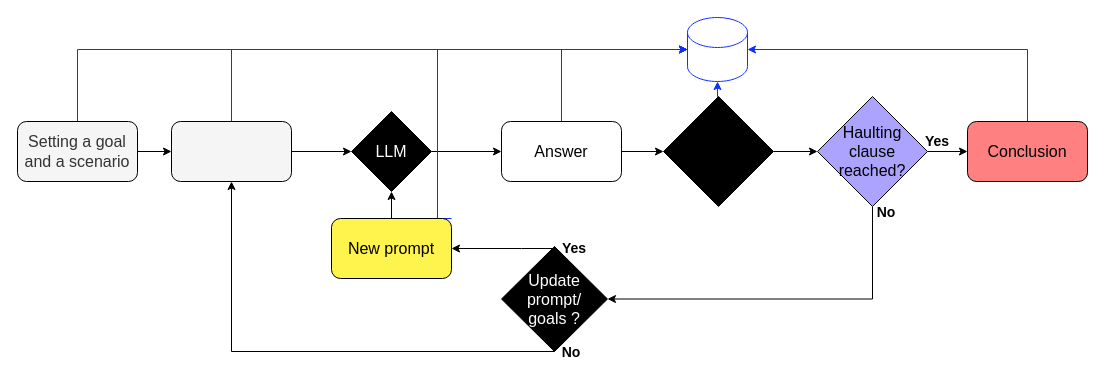
The diagram is 1105 pixels wide and 385 high, and some of its shapes have lost their labels. The centre of each missing label's shape, as x and y in pixels:
"Assess / Compute metrics" goes at (718,151).
"Initial prompt" goes at (231,151).
"KG" goes at (717,49).
